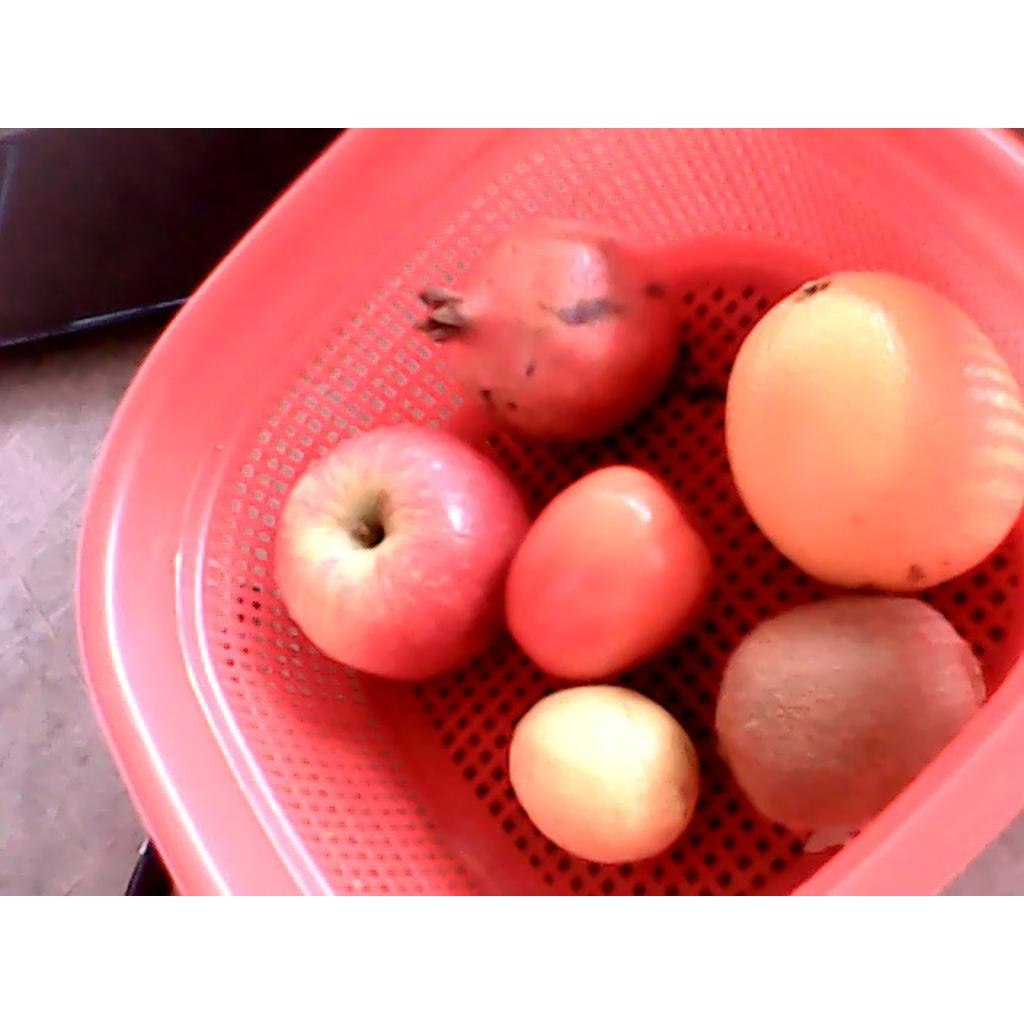apple: (269, 421, 528, 682)
kiwi: (714, 597, 989, 831)
lemon: (508, 685, 700, 863)
orange: (725, 268, 1022, 588)
pomegranate: (411, 217, 681, 444)
tomato: (504, 461, 711, 684)
